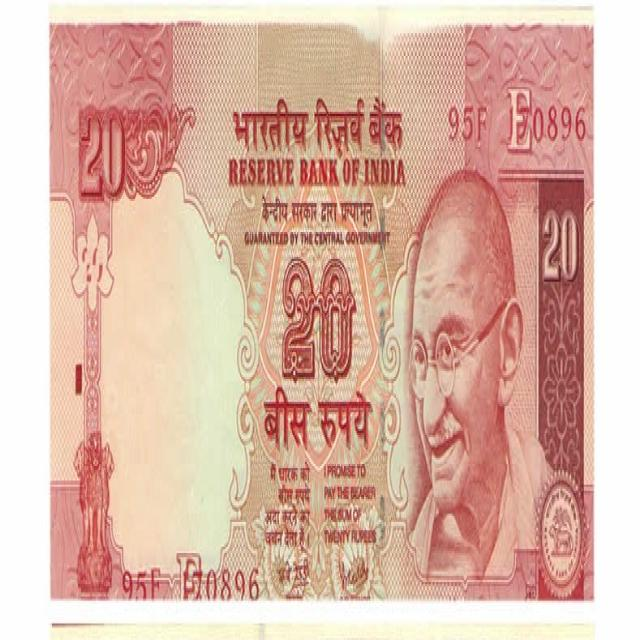20rs: (48, 24, 593, 607)
